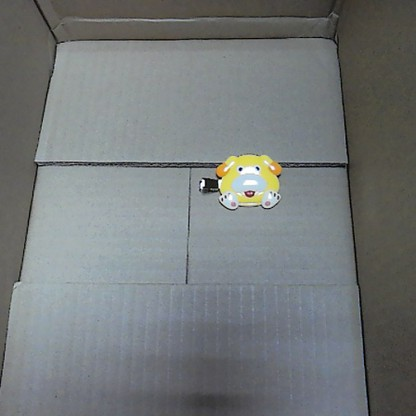dogclip: (195, 149, 283, 211)
